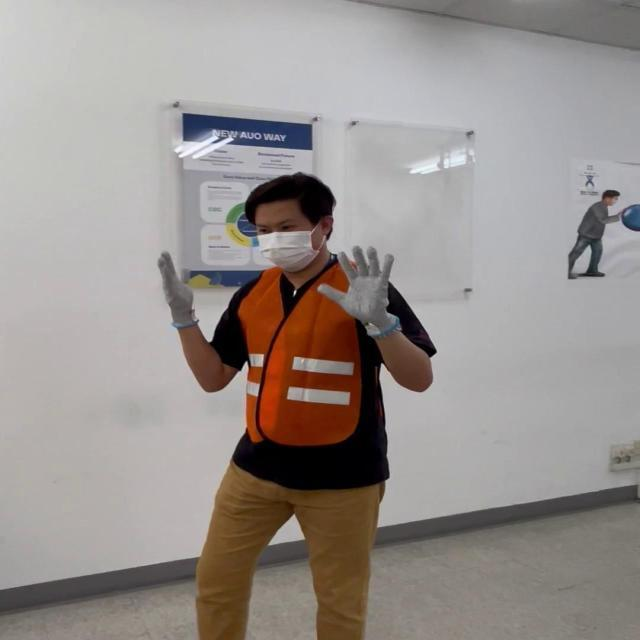gloved_hand: (324, 244, 397, 336), (153, 252, 210, 326)
